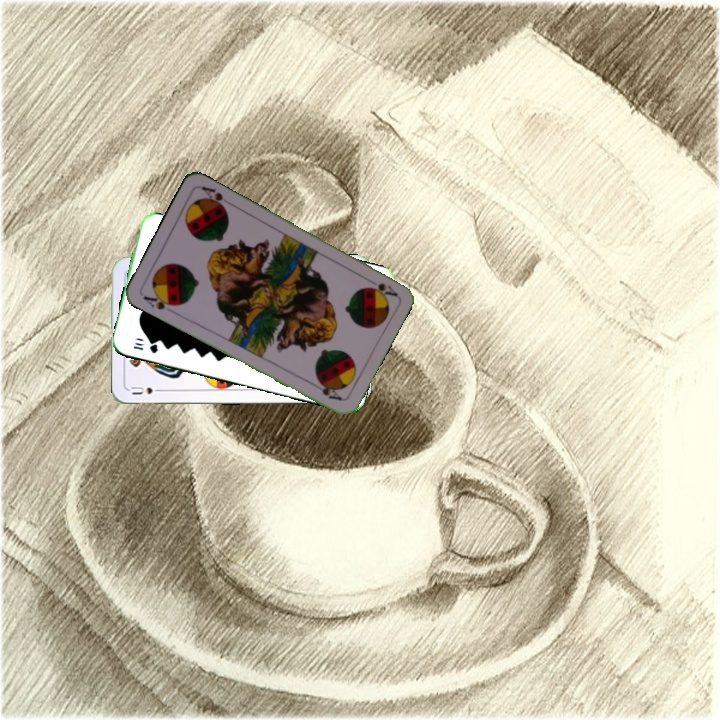G10: (129, 339, 161, 356)
SA: (362, 274, 400, 299), (139, 289, 180, 312)
SU: (127, 383, 167, 397)
